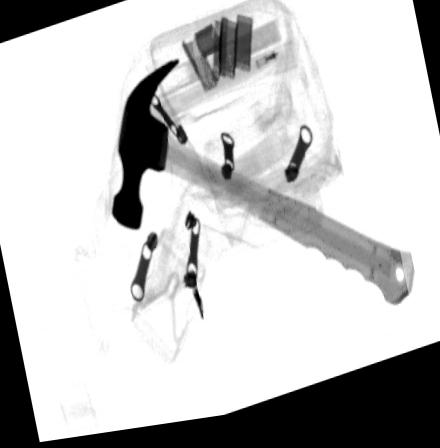Hammer: (109, 64, 414, 320)
